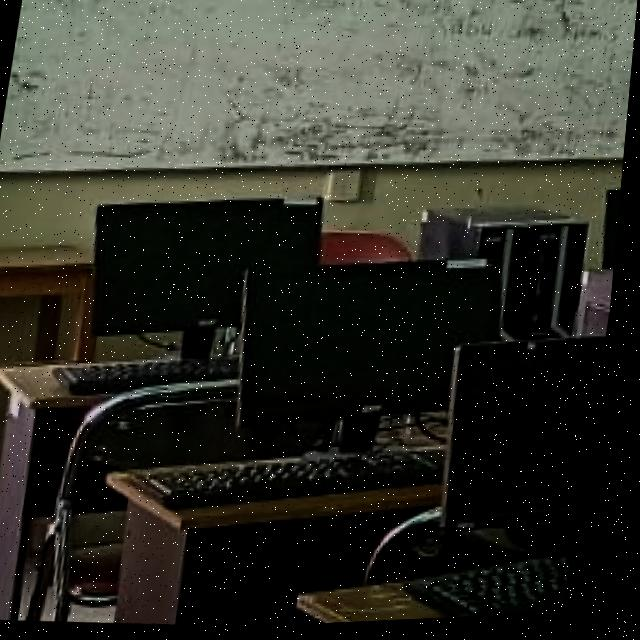offscreen: (249, 266, 505, 427), (98, 205, 325, 335), (452, 344, 611, 529)
